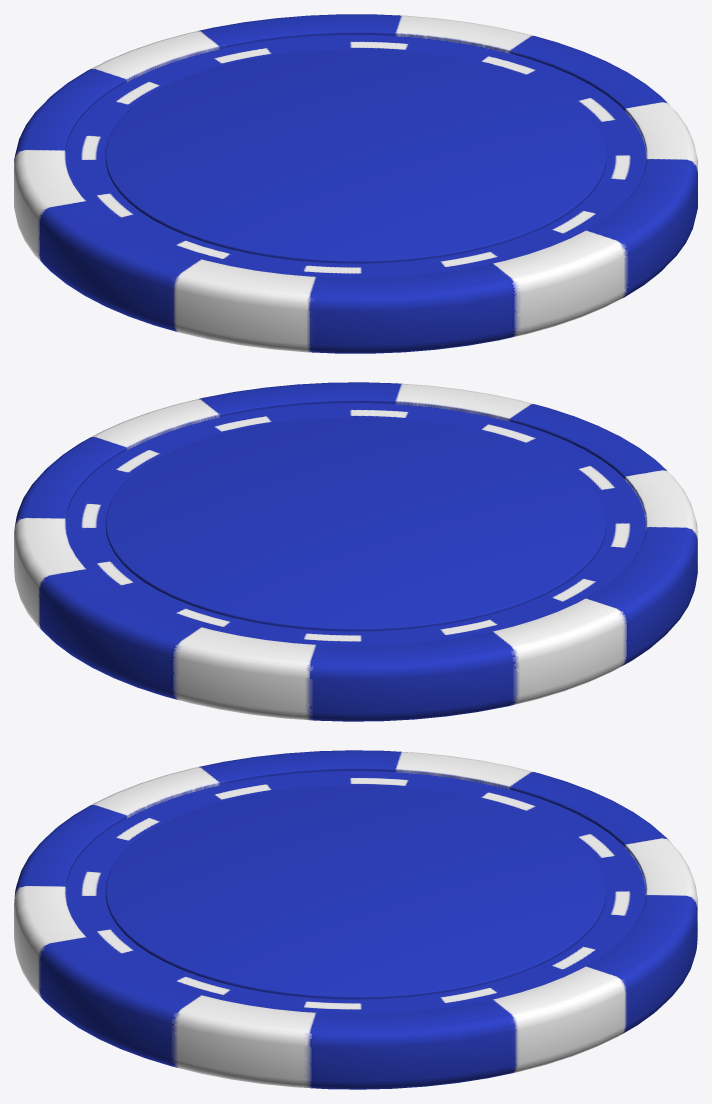
The model's file is blue.glb.
The picture shows the model from 3 angles, top to bottom: view 1: azimuth 30°, elevation 25°; view 2: azimuth 150°, elevation 25°; view 3: azimuth 270°, elevation 25°; orthographic projection.
Parts seen in each view (by area): view 1: chips.472; view 2: chips.472; view 3: chips.472.
Boxes of the visible parts, x1,y1,x2,y2 form: chips.472: (14, 14, 697, 353); chips.472: (14, 382, 697, 721); chips.472: (14, 750, 697, 1089).
Bounding box in the file's own units: 2 × 0.1882 × 2.
1 material, 1 textured.
